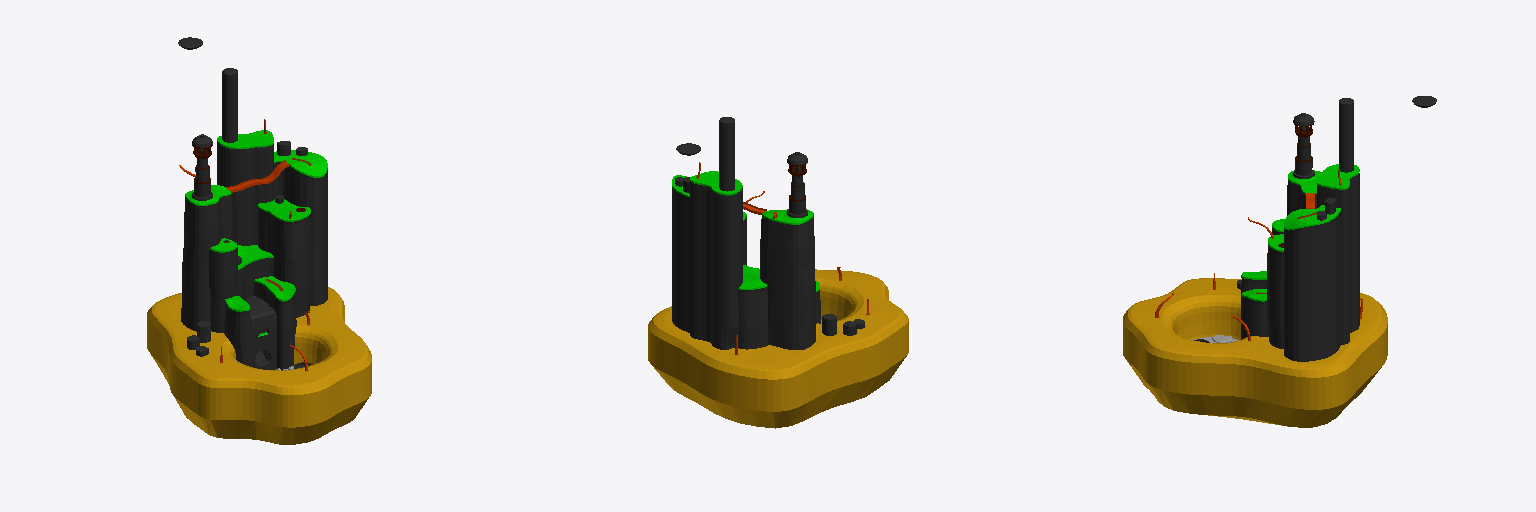
Rendered from SunBeachPlanet.obj.
The picture shows the model from 3 angles: view 1: azimuth 30°, elevation 25°; view 2: azimuth 150°, elevation 25°; view 3: azimuth 270°, elevation 25°; orthographic projection.
Visible parts, largest first — view 1: FloatyBeachTheSecond_Collision_Plane.000; view 2: FloatyBeachTheSecond_Collision_Plane.000; view 3: FloatyBeachTheSecond_Collision_Plane.000.
Boxes of the visible parts, <box> form: FloatyBeachTheSecond_Collision_Plane.000: <box>147,37,371,444</box>; FloatyBeachTheSecond_Collision_Plane.000: <box>648,117,908,428</box>; FloatyBeachTheSecond_Collision_Plane.000: <box>1123,96,1436,427</box>.
Bounding box in the file's own units: 11517 × 17898 × 16026.